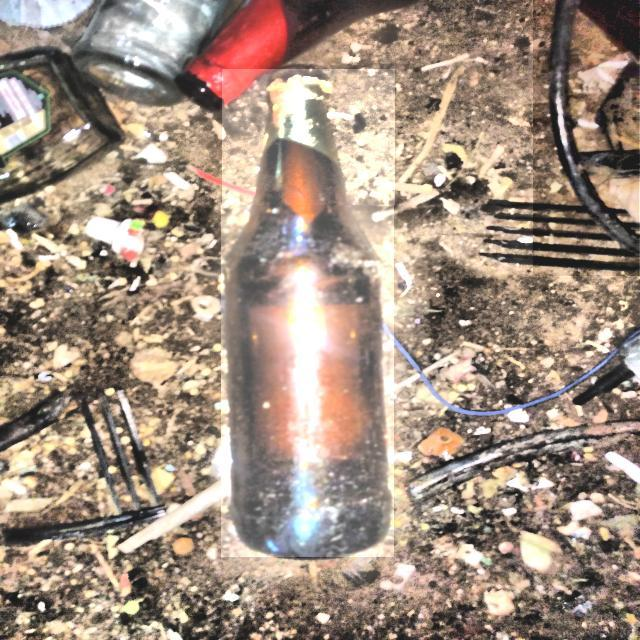anorganik: (0, 0, 451, 205), (222, 69, 394, 556), (533, 0, 638, 275)
